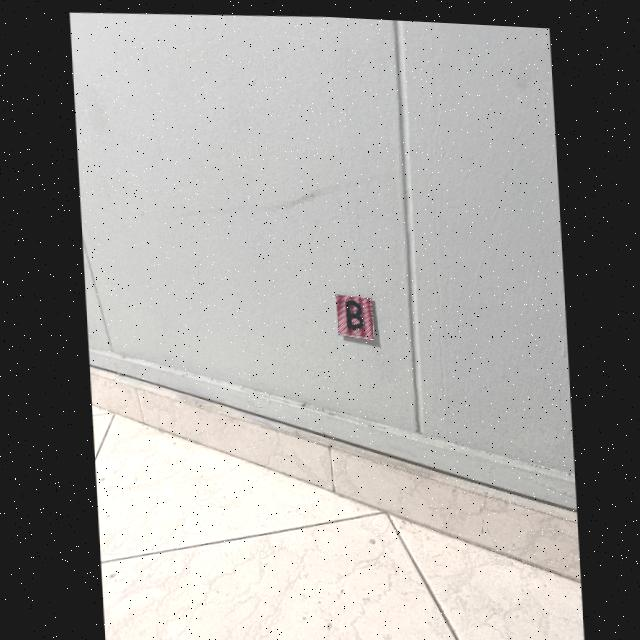B: (344, 297, 362, 325)
